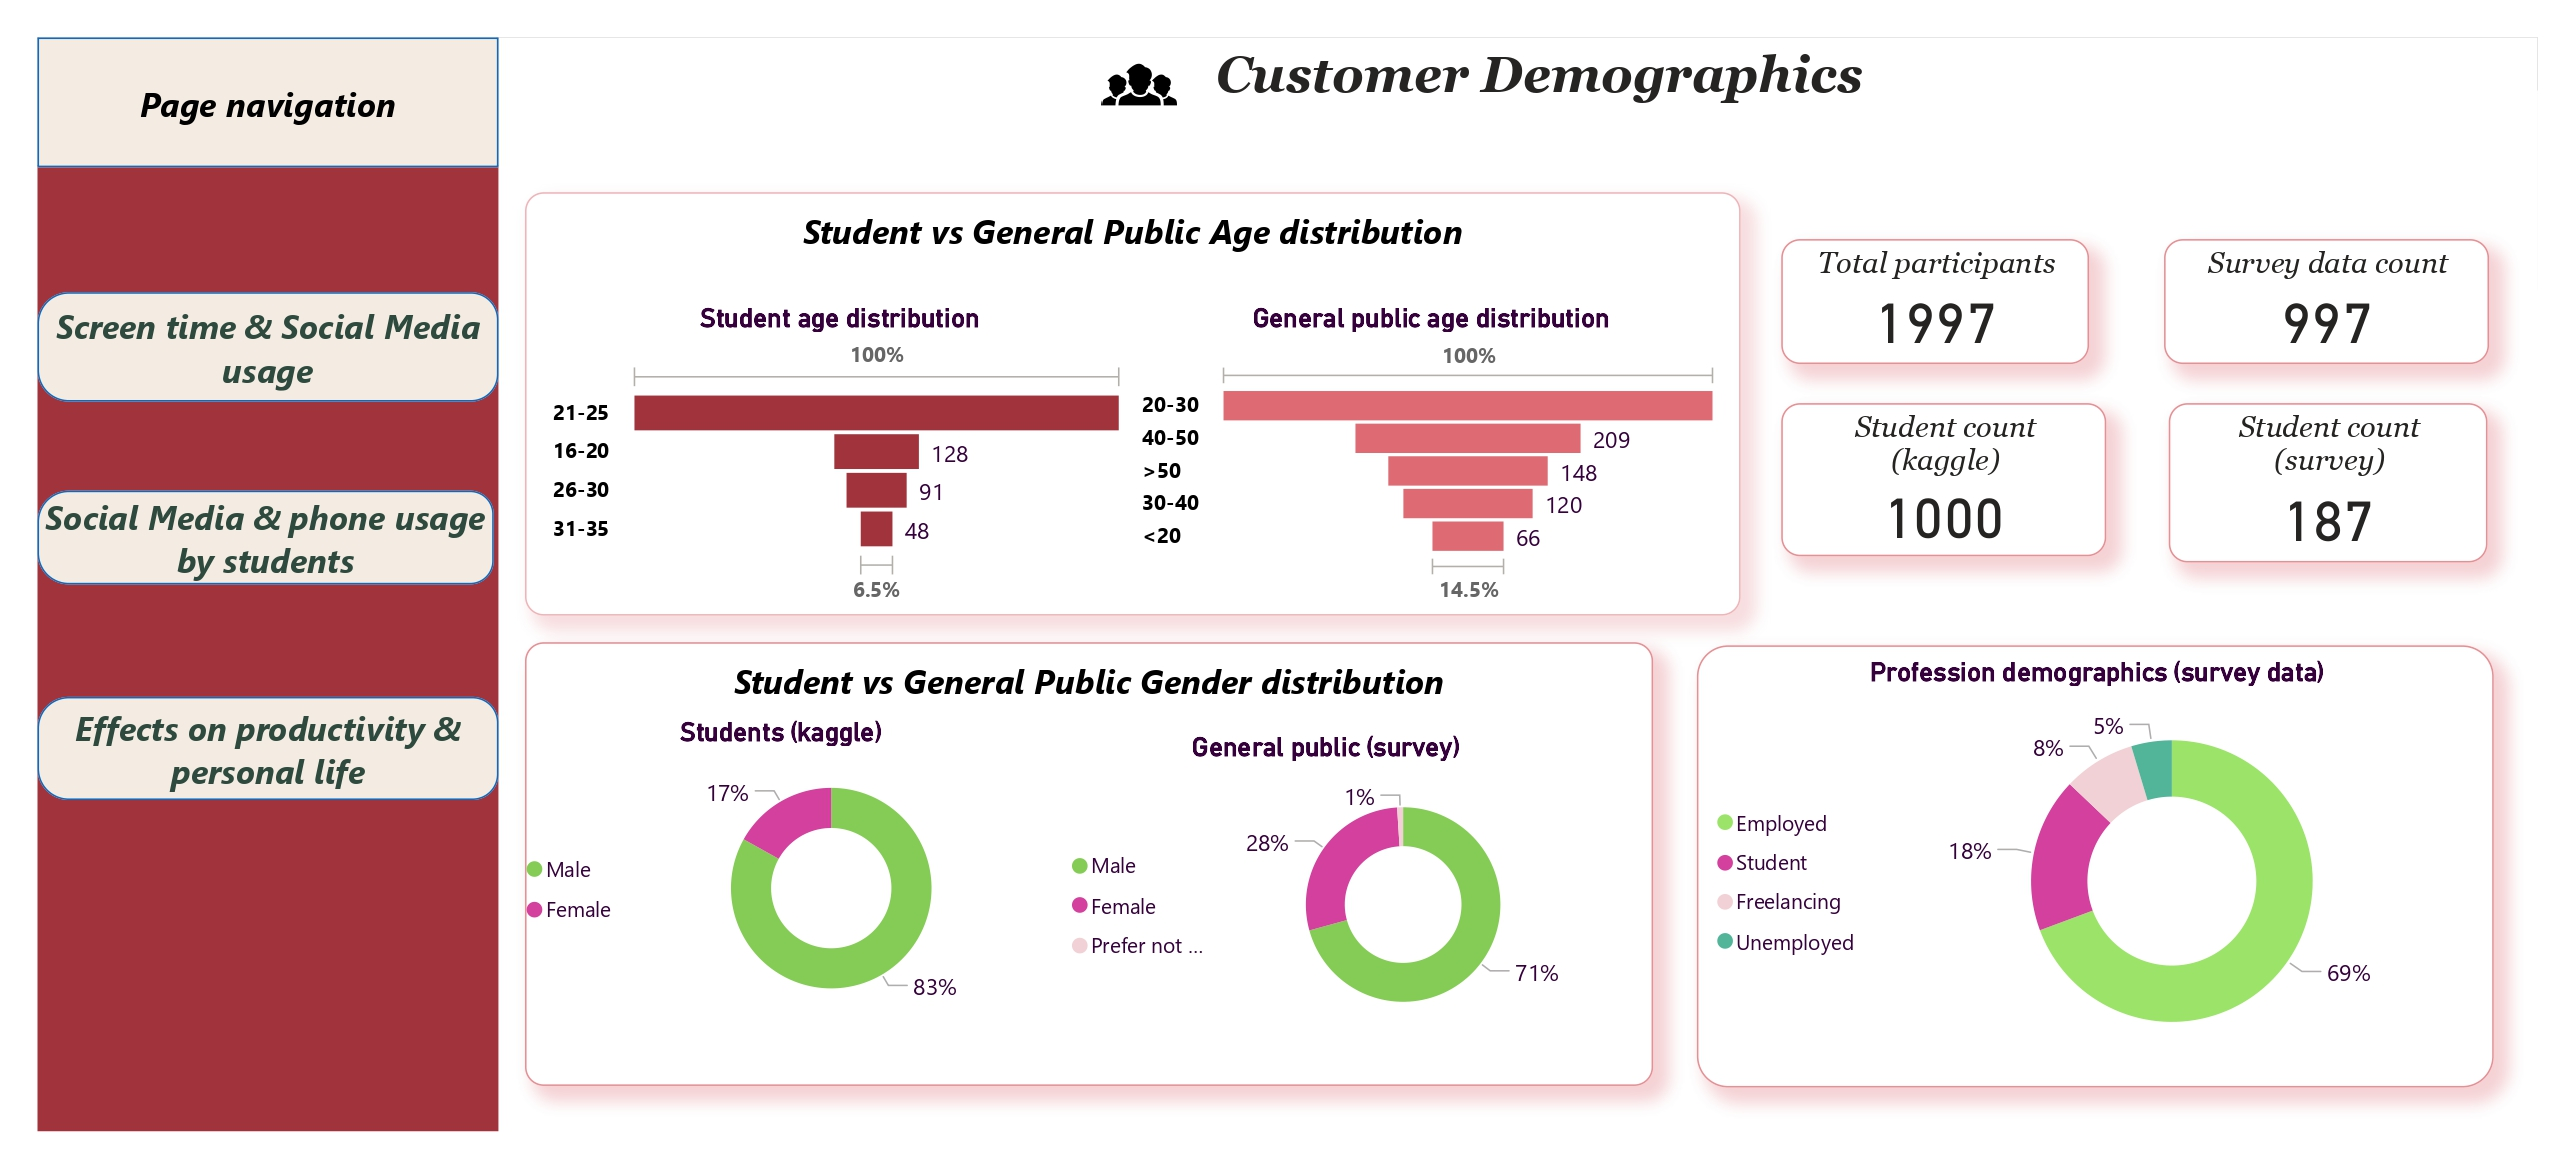

The dashboard page shown, as its layout file describes it:
{"tool":"powerbi","page":{"name":"Customer demographics","canvas":[1600,700],"ordinal":0},"visuals":[{"type":"textbox","box":[312.4,386.8,721.4,284.3],"z":0},{"type":"donutChart","title":"Students (kaggle)","fields":{"Category":["final_student_survey.Gender"],"Y":["Count(final_student_survey.Index)"]},"box":[306.7,433.6,336.8,202.7],"z":1000},{"type":"donutChart","title":"General public (survey)","fields":{"Category":["final_survey.Gender"],"Y":["Count(final_survey.Index)"]},"box":[655.7,444.2,336.8,202.7],"z":2000},{"type":"textbox","box":[311.7,98.7,778.3,271.7],"z":3000},{"type":"funnel","title":"Student age distribution","fields":{"Category":["final_student_survey.Age"],"Y":["Count(final_student_survey.Index)"]},"box":[325,168.7,376.7,198.3],"z":4000},{"type":"funnel","title":"General public age distribution","fields":{"Category":["final_survey.Age group"],"Y":["Count(final_survey.Index)"]},"box":[701.7,168.7,380,198.3],"z":5000},{"type":"donutChart","title":"Profession demographics (survey data)","fields":{"Category":["final_survey.Profession"],"Y":["Count(final_survey.Index)"]},"box":[1061.7,388.7,510,283.3],"z":6000},{"type":"card","title":"Survey data count","fields":{"Values":["Count(final_survey.Index)"]},"box":[1361,129,208.3,80],"z":7000},{"type":"card","title":"Student count (kaggle)","fields":{"Values":["Count(final_student_survey.Index)"]},"box":[1116,234,208.3,98.3],"z":8000},{"type":"card","title":"Total participants","fields":{"Values":["final_survey.Total participants"]},"box":[1116,129,196.7,80],"z":9000},{"type":"image","box":[660.7,0.7,88.3,58.3],"z":10000},{"type":"textbox","box":[749,0.7,445,58.3],"z":11000},{"type":"card","title":"Student count (survey)","fields":{"Values":["final_survey.Survey_student_count"]},"box":[1364.3,234,203.3,101.7],"z":12000},{"type":"textbox","box":[0,0,295,800],"z":13000},{"type":"shape","box":[0,163.3,295,70],"z":14000},{"type":"shape","box":[0,290,291.7,60],"z":15000},{"type":"shape","box":[0,421.7,295,66.7],"z":16000},{"type":"shape","box":[0,0,295,83.3],"z":17000}]}

Visuals, with their boxes on the page's 1600x700 design canvas (x1, y1, x2, y2). These are canvas units, not pixel positions in the 2575x1169 screenshot, which may show the page scaled, cropped or inside an application window:
textbox: (312, 387, 1034, 671)
"Students (kaggle)" donutChart: (307, 434, 644, 636)
"General public (survey)" donutChart: (656, 444, 992, 647)
textbox: (312, 99, 1090, 370)
"Student age distribution" funnel: (325, 169, 702, 367)
"General public age distribution" funnel: (702, 169, 1082, 367)
"Profession demographics (survey data)" donutChart: (1062, 389, 1572, 672)
"Survey data count" card: (1361, 129, 1569, 209)
"Student count (kaggle)" card: (1116, 234, 1324, 332)
"Total participants" card: (1116, 129, 1313, 209)
image: (661, 1, 749, 59)
textbox: (749, 1, 1194, 59)
"Student count (survey)" card: (1364, 234, 1568, 336)
textbox: (0, 0, 295, 800)
shape: (0, 163, 295, 233)
shape: (0, 290, 292, 350)
shape: (0, 422, 295, 488)
shape: (0, 0, 295, 83)
